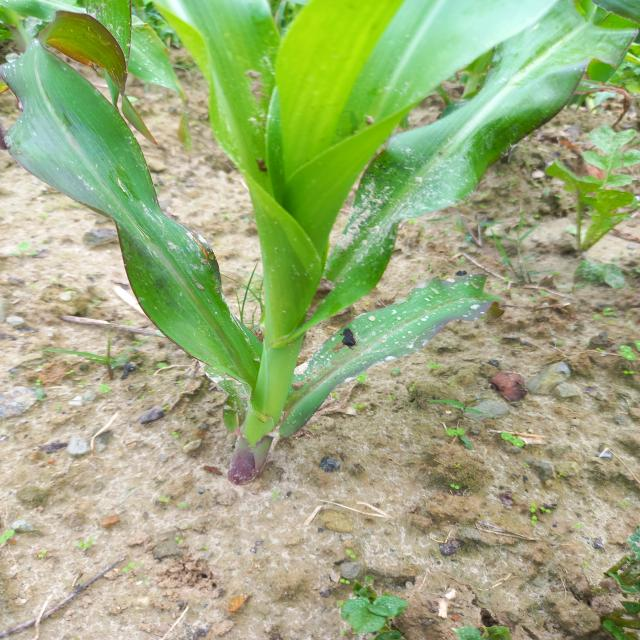maize: (0, 0, 640, 459)
weed: (520, 128, 640, 245), (393, 376, 544, 448), (571, 521, 640, 640), (330, 575, 432, 640), (442, 602, 536, 640)
